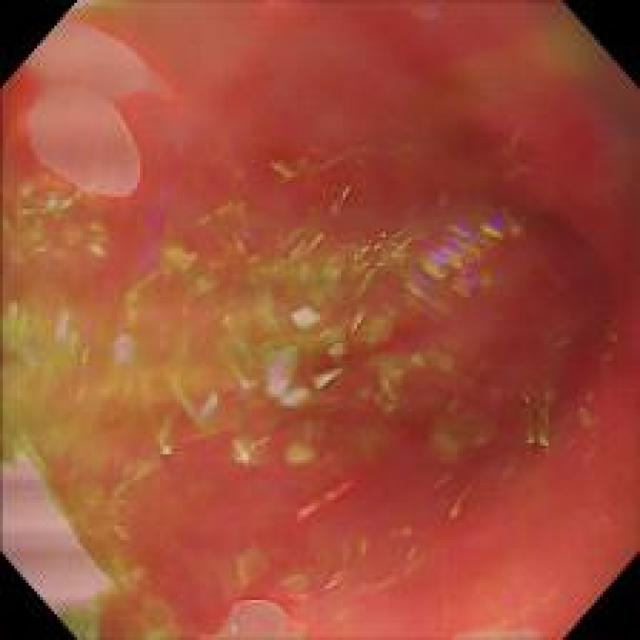color misalignment: (4, 5, 635, 636), (4, 189, 534, 524), (2, 16, 182, 200), (1, 431, 188, 566), (532, 15, 614, 110), (209, 594, 306, 635)
